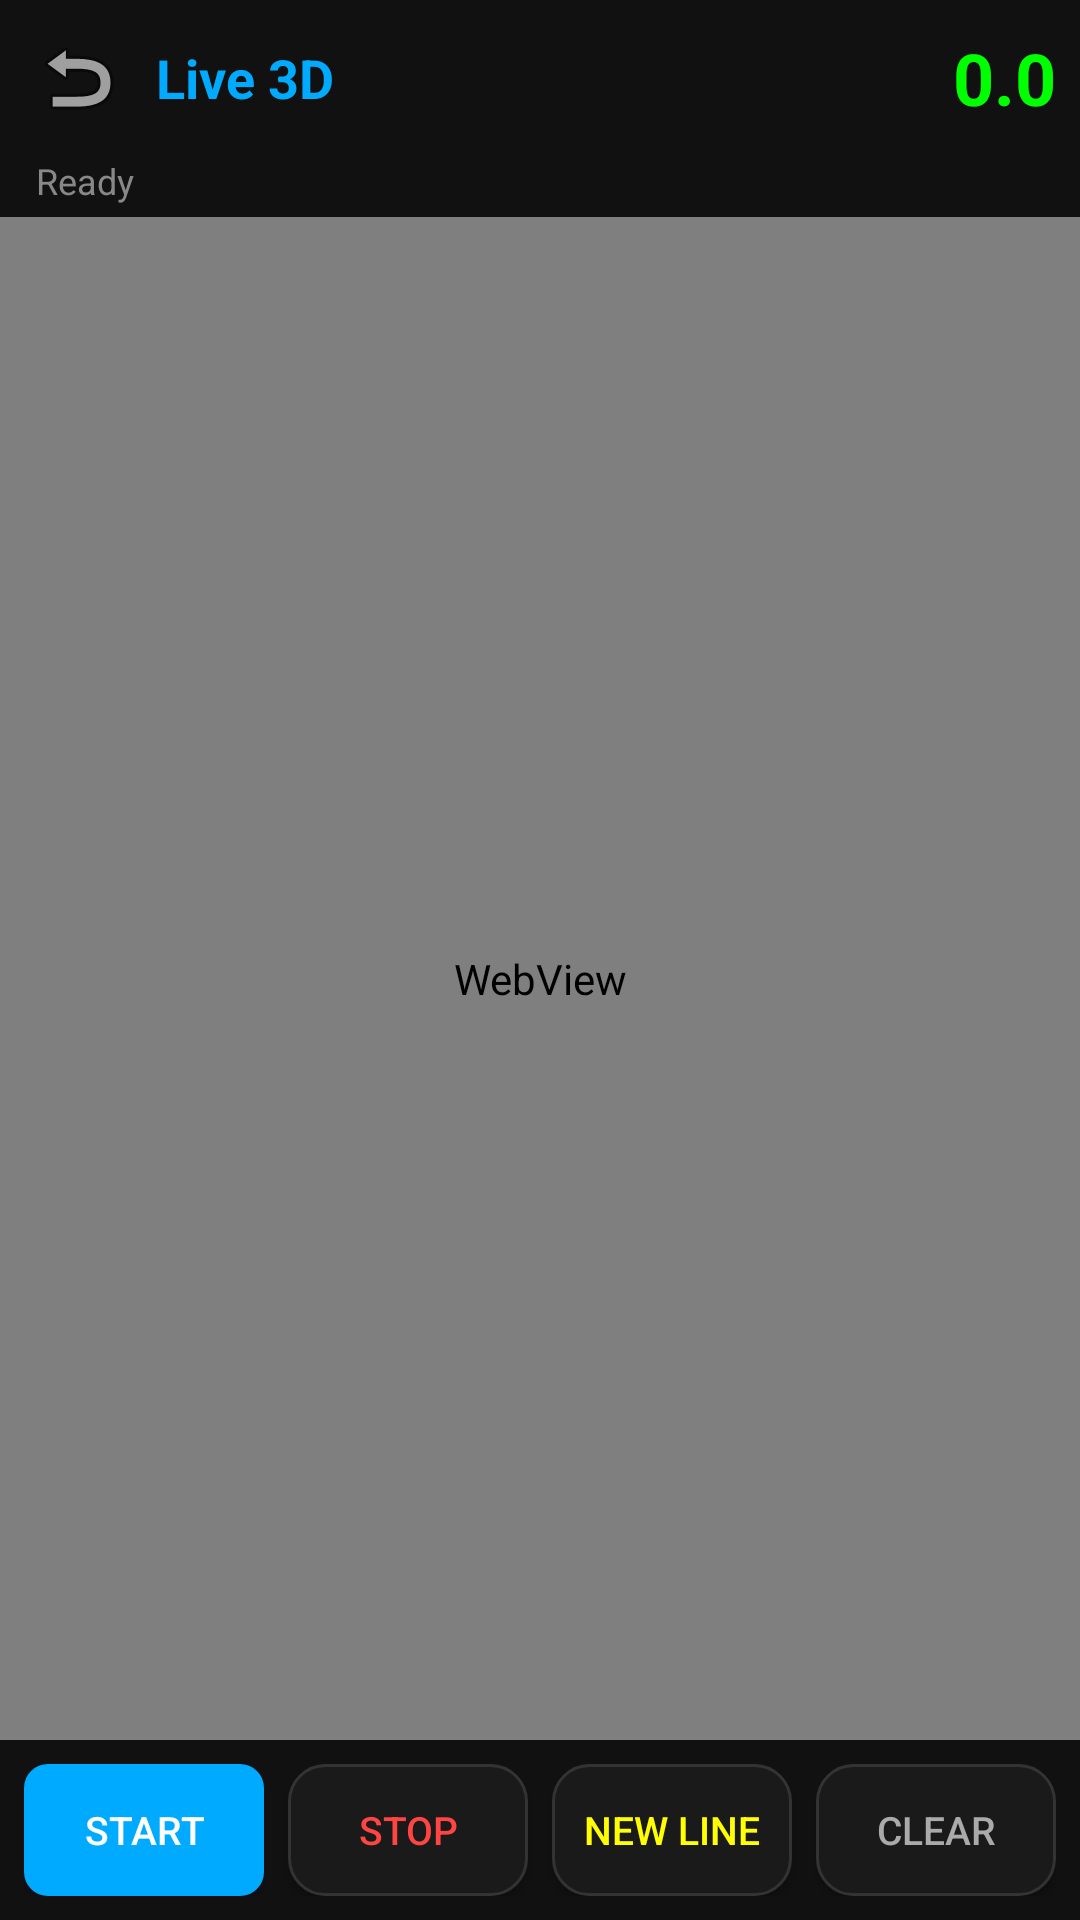

Icons on this 1080x1920 Android screen, each with its box as Rect(x1, y1, x2, y2):
revert: Rect(48, 50, 111, 107)
